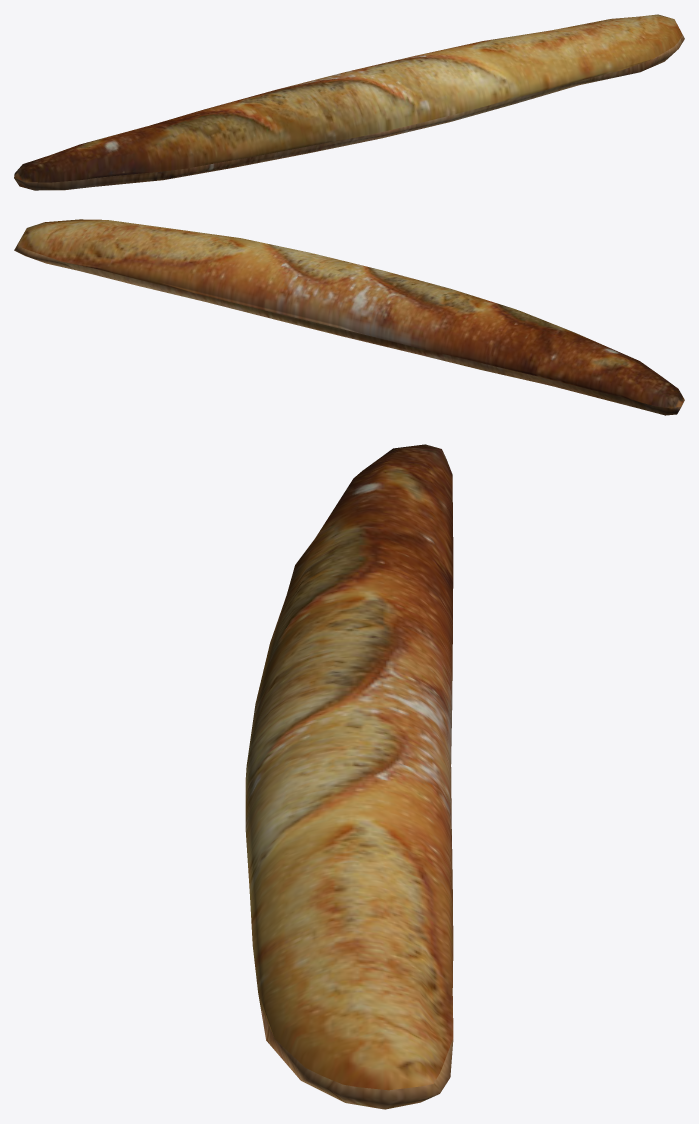
Rendered from baguettePain.obj.
The picture shows the model from 3 angles, top to bottom: view 1: azimuth 30°, elevation 25°; view 2: azimuth 150°, elevation 25°; view 3: azimuth 270°, elevation 25°; orthographic projection. The views are drawn at different scales.
Parts seen in each view (by area): view 1: dessus, dessous; view 2: dessus, dessous; view 3: dessus, dessous.
Part boxes in pixels (x1,y1,x2,y2): dessus: [14, 14, 682, 182]; dessous: [14, 34, 684, 190]; dessus: [18, 219, 684, 408]; dessous: [14, 243, 684, 415]; dessus: [245, 444, 453, 1090]; dessous: [245, 473, 453, 1109].
Bounding box in the file's own units: 54.69 × 4.07 × 7.52.
2 materials, 2 textured.
